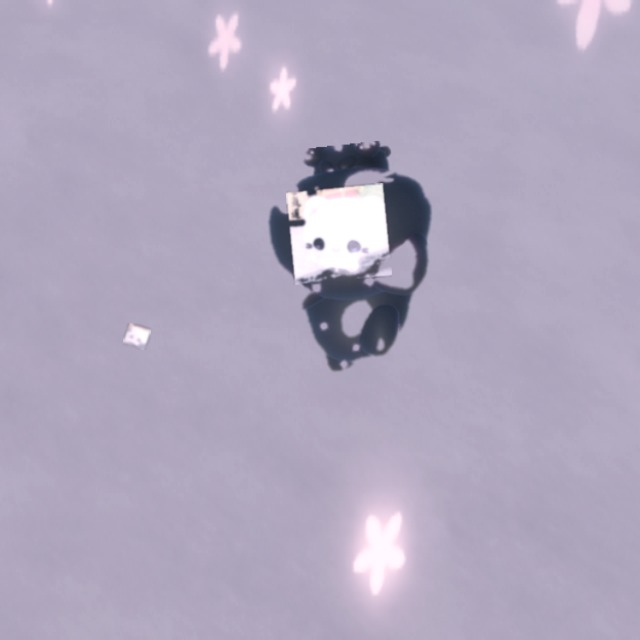urso_branco: (286, 183, 392, 285), (123, 323, 151, 350)
urso_preto: (244, 135, 457, 394)
